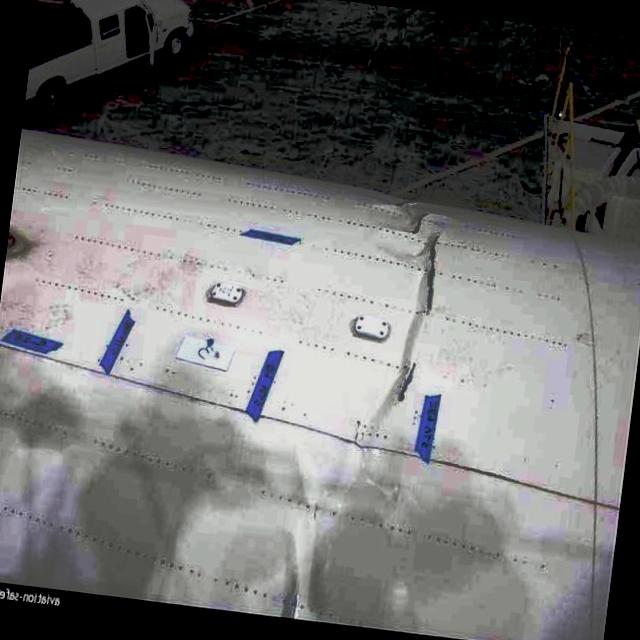crack: (412, 226, 448, 322), (389, 357, 422, 408), (407, 207, 435, 239)
